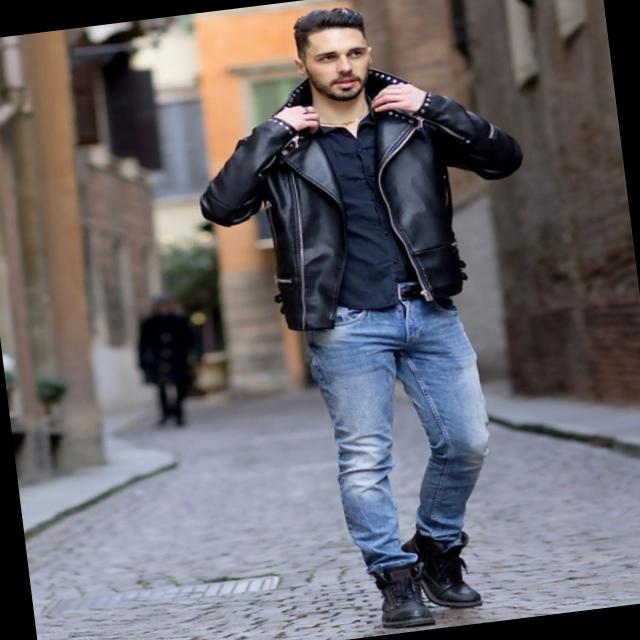Jacket: (173, 39, 541, 348)
